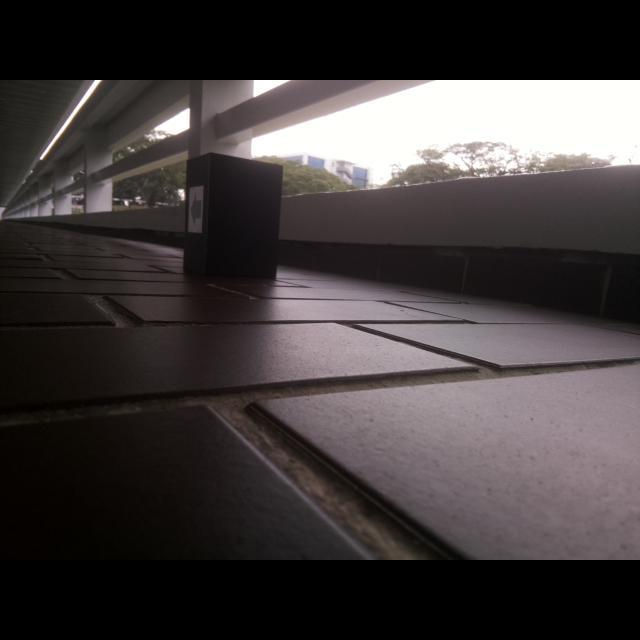LEFT: (190, 191, 202, 227)
